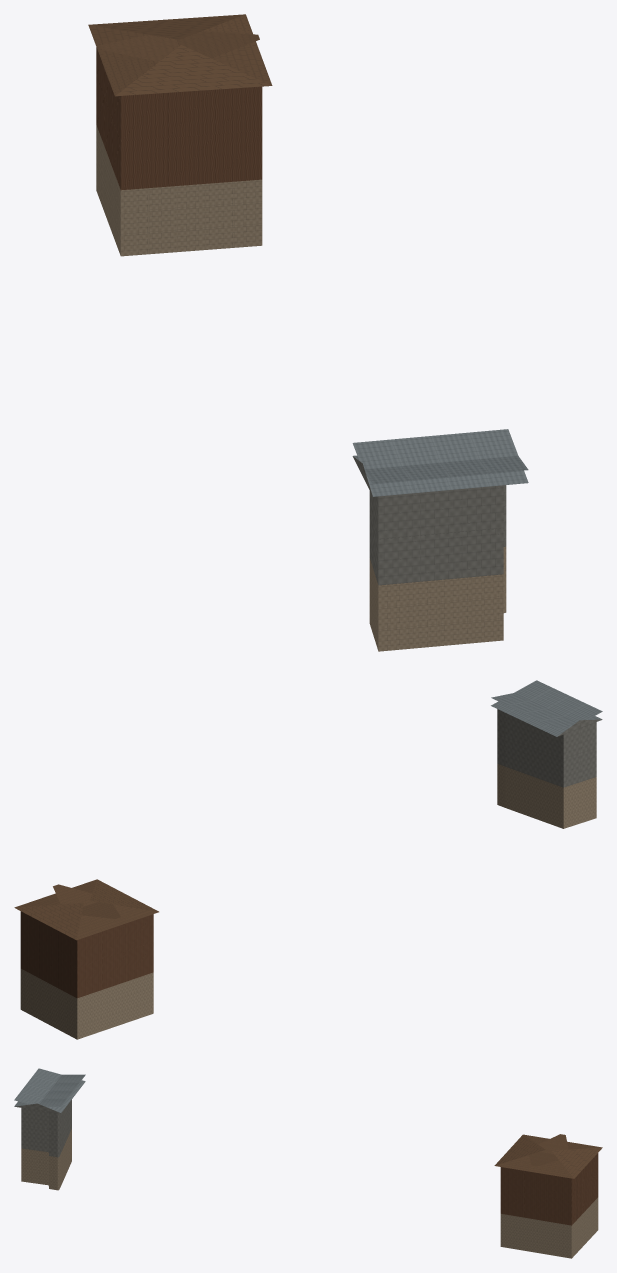
Rendered from bld_c3_18_462.gltf.
The picture shows the model from 3 angles, top to bottom: view 1: azimuth 30°, elevation 25°; view 2: azimuth 150°, elevation 25°; view 3: azimuth 270°, elevation 25°; orthographic projection. The views are drawn at different scales.
Parts seen in each view (by area): view 1: bld_c3_18_462; view 2: bld_c3_18_462; view 3: bld_c3_18_462.
Boxes of the visible parts, x1,y1,x2,y2 form: bld_c3_18_462: [88, 14, 528, 651]; bld_c3_18_462: [14, 680, 602, 1039]; bld_c3_18_462: [14, 1068, 602, 1258].
Bounding box in the file's own units: 32.95 × 14.3 × 82.28.
6 materials, 6 textured.
